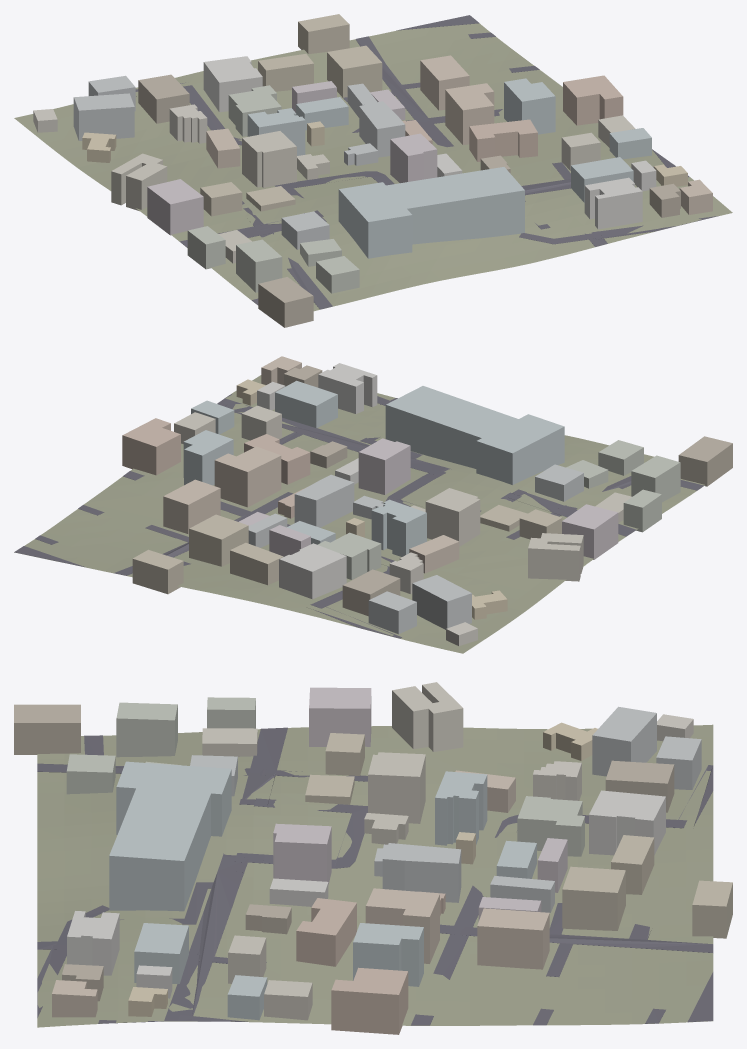
Rendered from chunk_1_4.glb.
3 views of the same model, one above another, from view 1: azimuth 30°, elevation 25°; view 2: azimuth 150°, elevation 25°; view 3: azimuth 270°, elevation 25° (orthographic). The views are drawn at different scales.
Visible parts, largest first — view 1: geometry_52, geometry_0, geometry_35, geometry_12, geometry_48, geometry_6, geometry_37, geometry_42, geometry_33, geometry_34, geometry_9, geometry_39 (+40 smaller); view 2: geometry_52, geometry_0, geometry_33, geometry_39, geometry_37, geometry_35, geometry_9, geometry_30, geometry_48, geometry_10, geometry_51, geometry_25 (+37 smaller); view 3: geometry_52, geometry_0, geometry_37, geometry_25, geometry_9, geometry_39, geometry_23, geometry_51, geometry_76, geometry_35, geometry_34, geometry_4 (+46 smaller).
Part boxes in pixels (left/top/right/bottom): geometry_52: left=14, top=23, right=732, bottom=311; geometry_0: left=338, top=167, right=524, bottom=258; geometry_35: left=242, top=131, right=296, bottom=187; geometry_12: left=147, top=179, right=203, bottom=235; geometry_48: left=73, top=93, right=134, bottom=140; geometry_6: left=584, top=177, right=642, bottom=229; geometry_37: left=563, top=75, right=623, bottom=125; geometry_42: left=469, top=119, right=537, bottom=161; geometry_33: left=445, top=83, right=494, bottom=144; geometry_34: left=504, top=78, right=555, bottom=134; geometry_9: left=111, top=153, right=167, bottom=210; geometry_39: left=203, top=56, right=262, bottom=112; geometry_52: left=14, top=375, right=704, bottom=653; geometry_0: left=385, top=386, right=564, bottom=484; geometry_33: left=214, top=446, right=281, bottom=507; geometry_39: left=279, top=543, right=346, bottom=599; geometry_37: left=122, top=418, right=180, bottom=475; geometry_35: left=425, top=488, right=480, bottom=546; geometry_9: left=528, top=533, right=583, bottom=581; geometry_30: left=358, top=438, right=410, bottom=494; geometry_48: left=412, top=575, right=471, bottom=629; geometry_10: left=371, top=499, right=426, bottom=556; geometry_51: left=294, top=474, right=354, bottom=527; geometry_25: left=163, top=479, right=220, bottom=534; geometry_52: left=37, top=724, right=713, bottom=1027; geometry_0: left=109, top=761, right=231, bottom=911; geometry_37: left=331, top=967, right=408, bottom=1034; geometry_25: left=477, top=908, right=549, bottom=969; geometry_9: left=392, top=682, right=463, bottom=751; geometry_39: left=589, top=790, right=665, bottom=855; geometry_23: left=562, top=866, right=625, bottom=930; geometry_51: left=382, top=843, right=461, bottom=902; geometry_76: left=164, top=871, right=244, bottom=1021; geometry_35: left=368, top=752, right=425, bottom=823; geometry_34: left=353, top=923, right=423, bottom=986; geometry_4: left=14, top=704, right=80, bottom=754.
Bounding box in the file's own units: 262 × 25.37 × 266.
